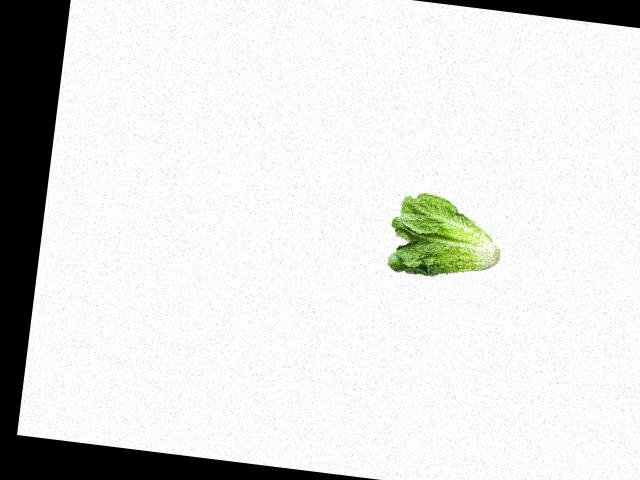lettuce: (385, 190, 509, 287)
